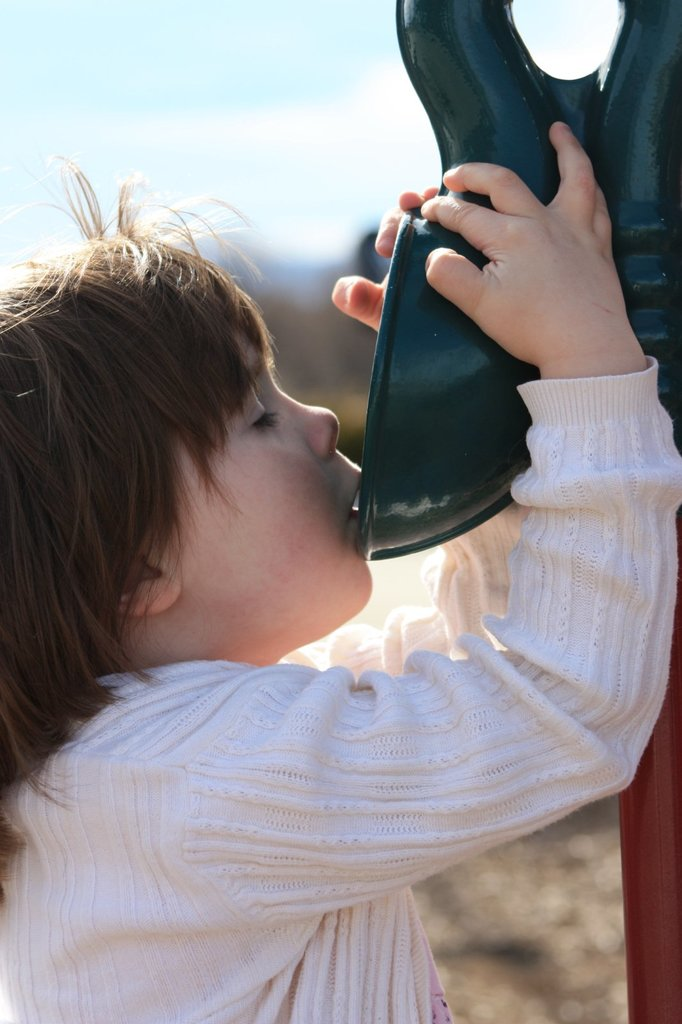Human_hand: (424, 123, 645, 359), (331, 186, 439, 332)
